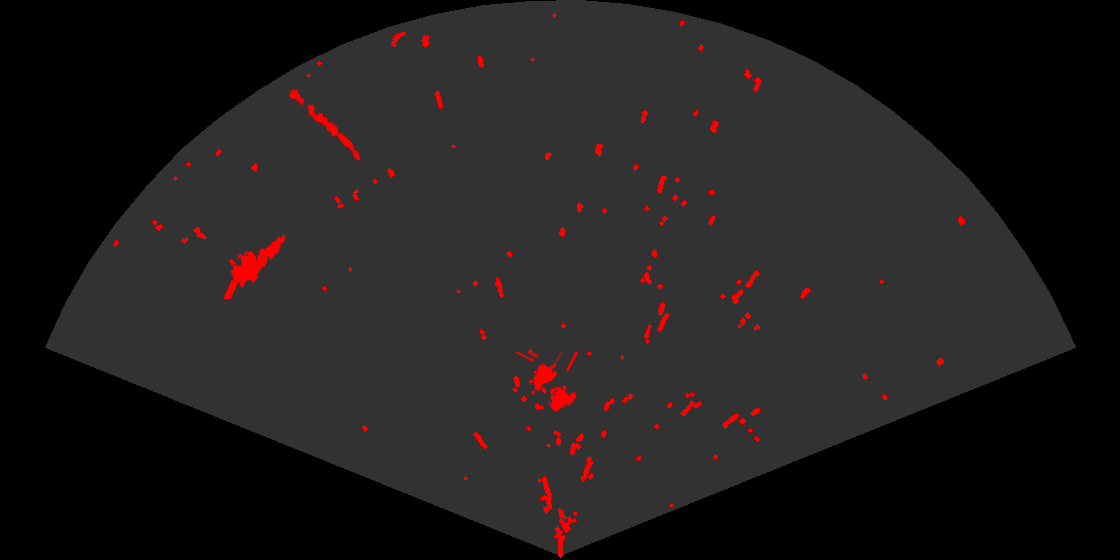cage: (513, 352, 580, 413)
chain: (287, 88, 362, 162)
frogman: (222, 235, 287, 299)
